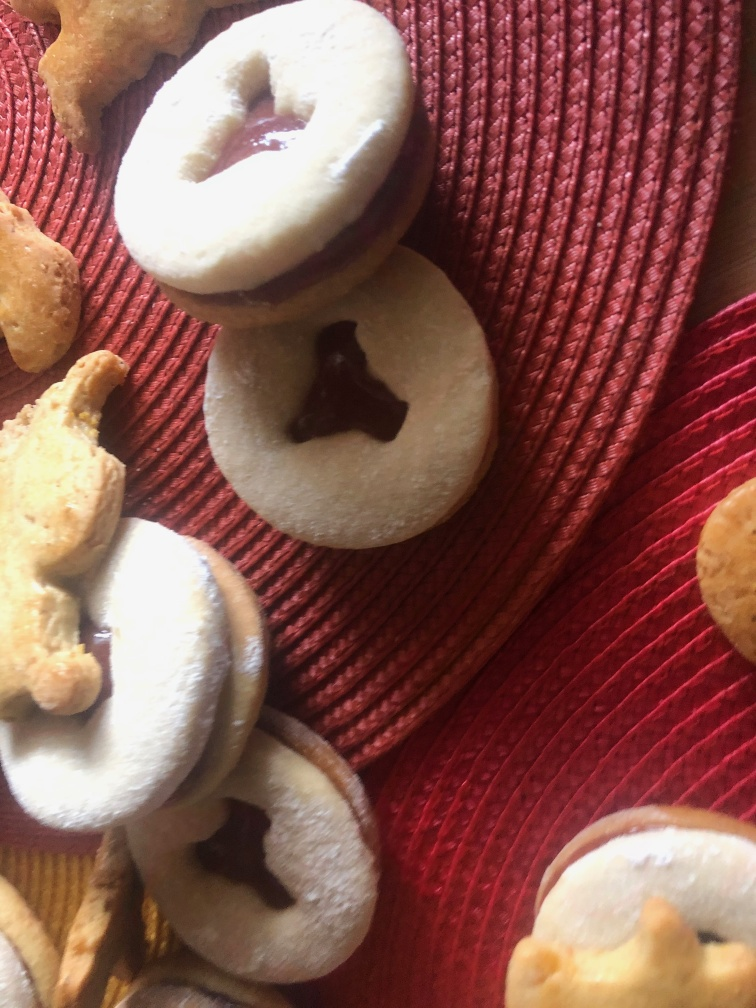christmas shortbread with jam: (111, 1, 428, 311), (205, 257, 502, 554), (37, 520, 265, 860), (213, 714, 377, 992)
